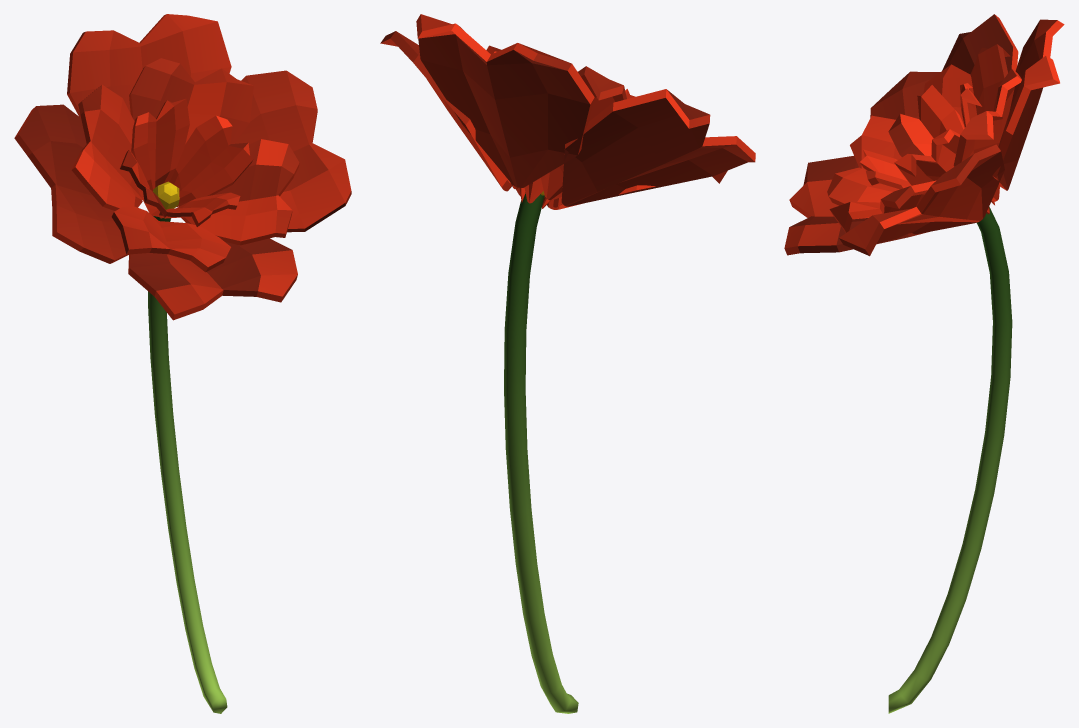
The model's file is Flower02A.fbx.
3 views of the same model, side by side, from view 1: azimuth 30°, elevation 25°; view 2: azimuth 150°, elevation 25°; view 3: azimuth 270°, elevation 25° (orthographic). The views are drawn at different scales.
Parts seen in each view (by area): view 1: Flower02A_LOD0; view 2: Flower02A_LOD0; view 3: Flower02A_LOD0.
Boxes of the visible parts, <box> form: Flower02A_LOD0: <box>14,14,351,713</box>; Flower02A_LOD0: <box>380,14,755,713</box>; Flower02A_LOD0: <box>784,14,1064,713</box>.
Size of what is drawn, in the model's own units: 49.21 by 104 by 39.3.
